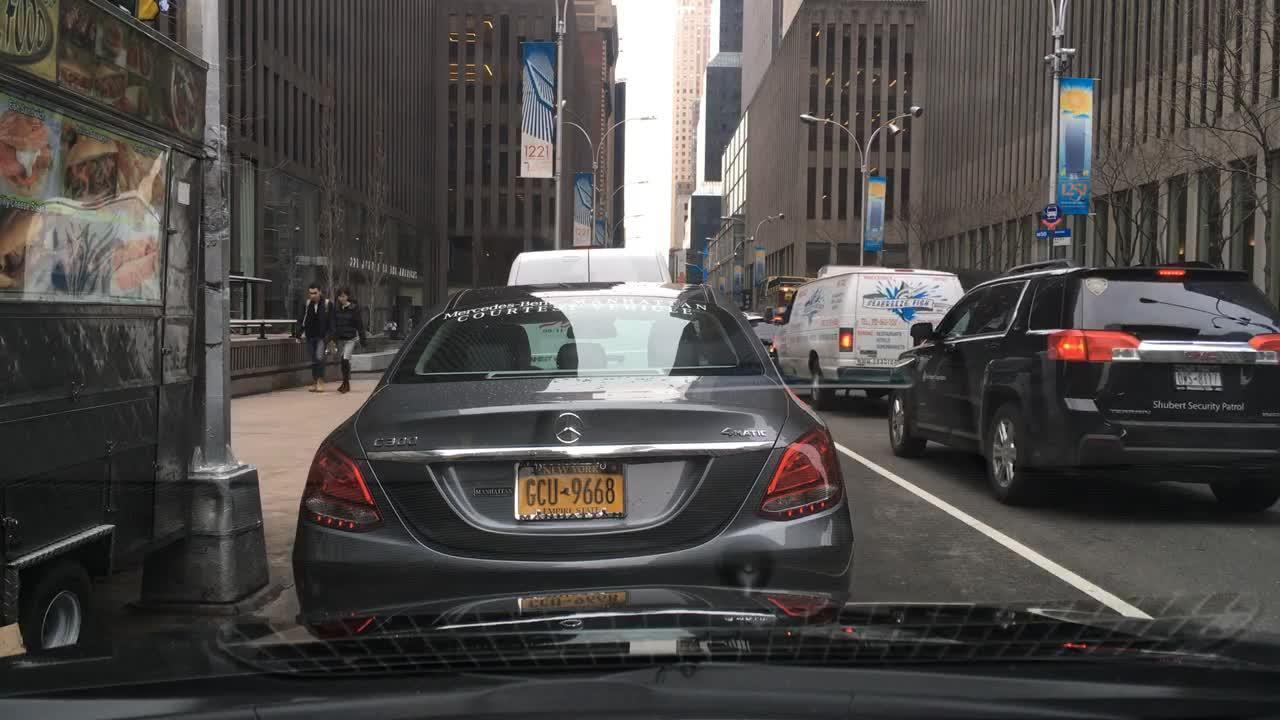Mercedes: (546, 410, 587, 449)
